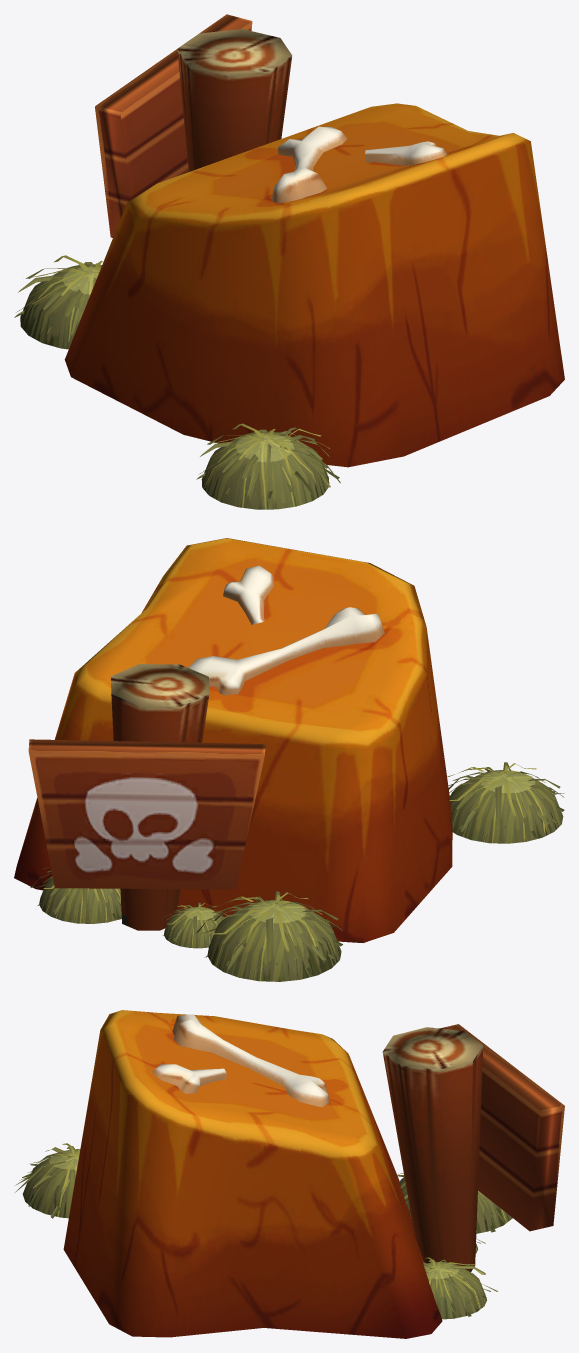
Rendered from CrackedOdysseyStatue.fbx.
3 views of the same model, one above another, from view 1: azimuth 30°, elevation 25°; view 2: azimuth 150°, elevation 25°; view 3: azimuth 270°, elevation 25° (orthographic). The views are drawn at different scales.
Parts seen in each view (by area): view 1: CrackedOdysseyStatue; view 2: CrackedOdysseyStatue; view 3: CrackedOdysseyStatue.
Boxes of the visible parts, x1,y1,x2,y2 form: CrackedOdysseyStatue: [14, 14, 564, 509]; CrackedOdysseyStatue: [14, 538, 564, 981]; CrackedOdysseyStatue: [15, 1010, 564, 1338].
Bounding box in the file's own units: 15.12 × 9.51 × 20.52.
